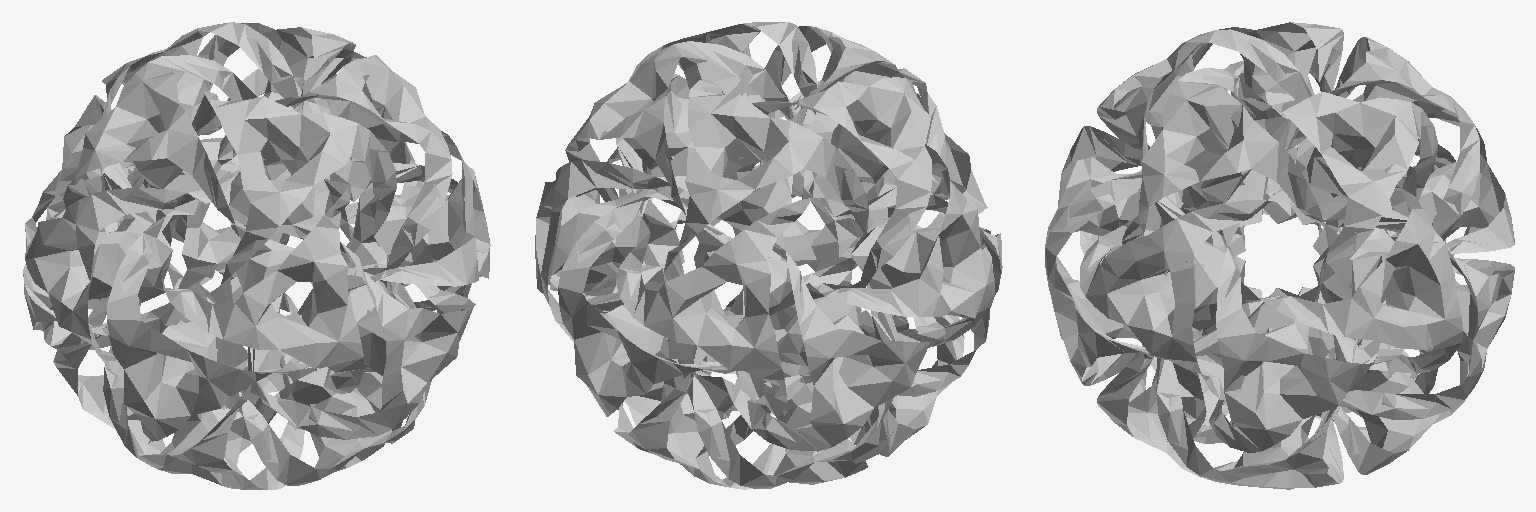
The picture shows the model from 3 angles: view 1: azimuth 30°, elevation 25°; view 2: azimuth 150°, elevation 25°; view 3: azimuth 270°, elevation 25°; orthographic projection.
Parts seen in each view (by area): view 1: uploads_files_49860_Tulip_Sphere:icosahedron2_default; view 2: uploads_files_49860_Tulip_Sphere:icosahedron2_default; view 3: uploads_files_49860_Tulip_Sphere:icosahedron2_default.
Part boxes in pixels (left/top/right/bottom): uploads_files_49860_Tulip_Sphere:icosahedron2_default: left=23, top=22, right=490, bottom=489; uploads_files_49860_Tulip_Sphere:icosahedron2_default: left=535, top=22, right=1002, bottom=489; uploads_files_49860_Tulip_Sphere:icosahedron2_default: left=1045, top=22, right=1514, bottom=489.
Bounding box in the file's own units: 3 × 2.8 × 3.03.